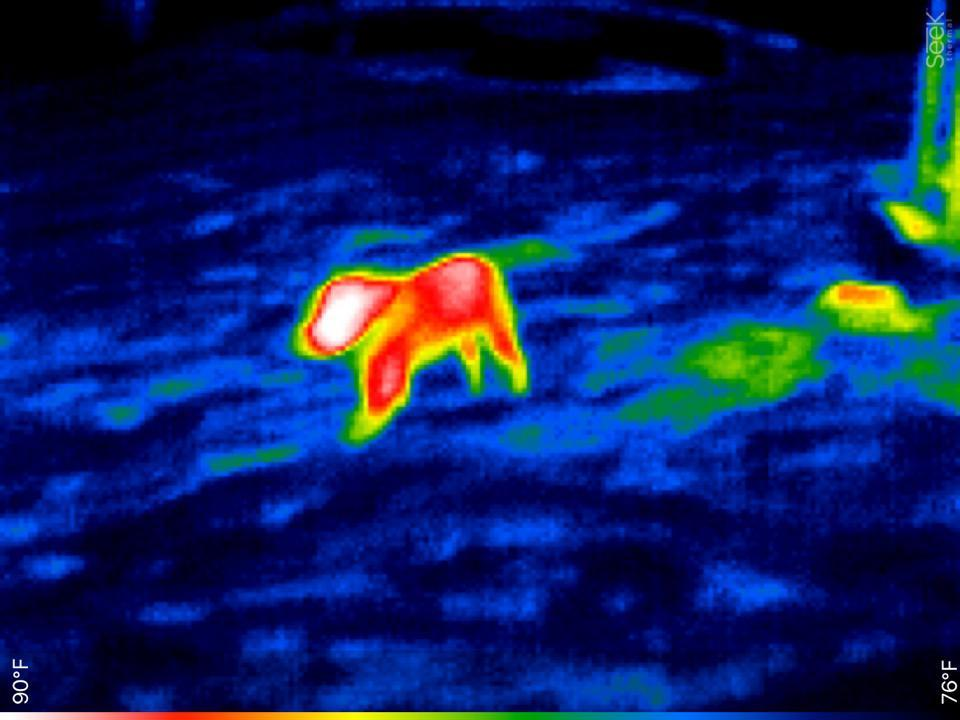dog: (291, 246, 539, 450)
